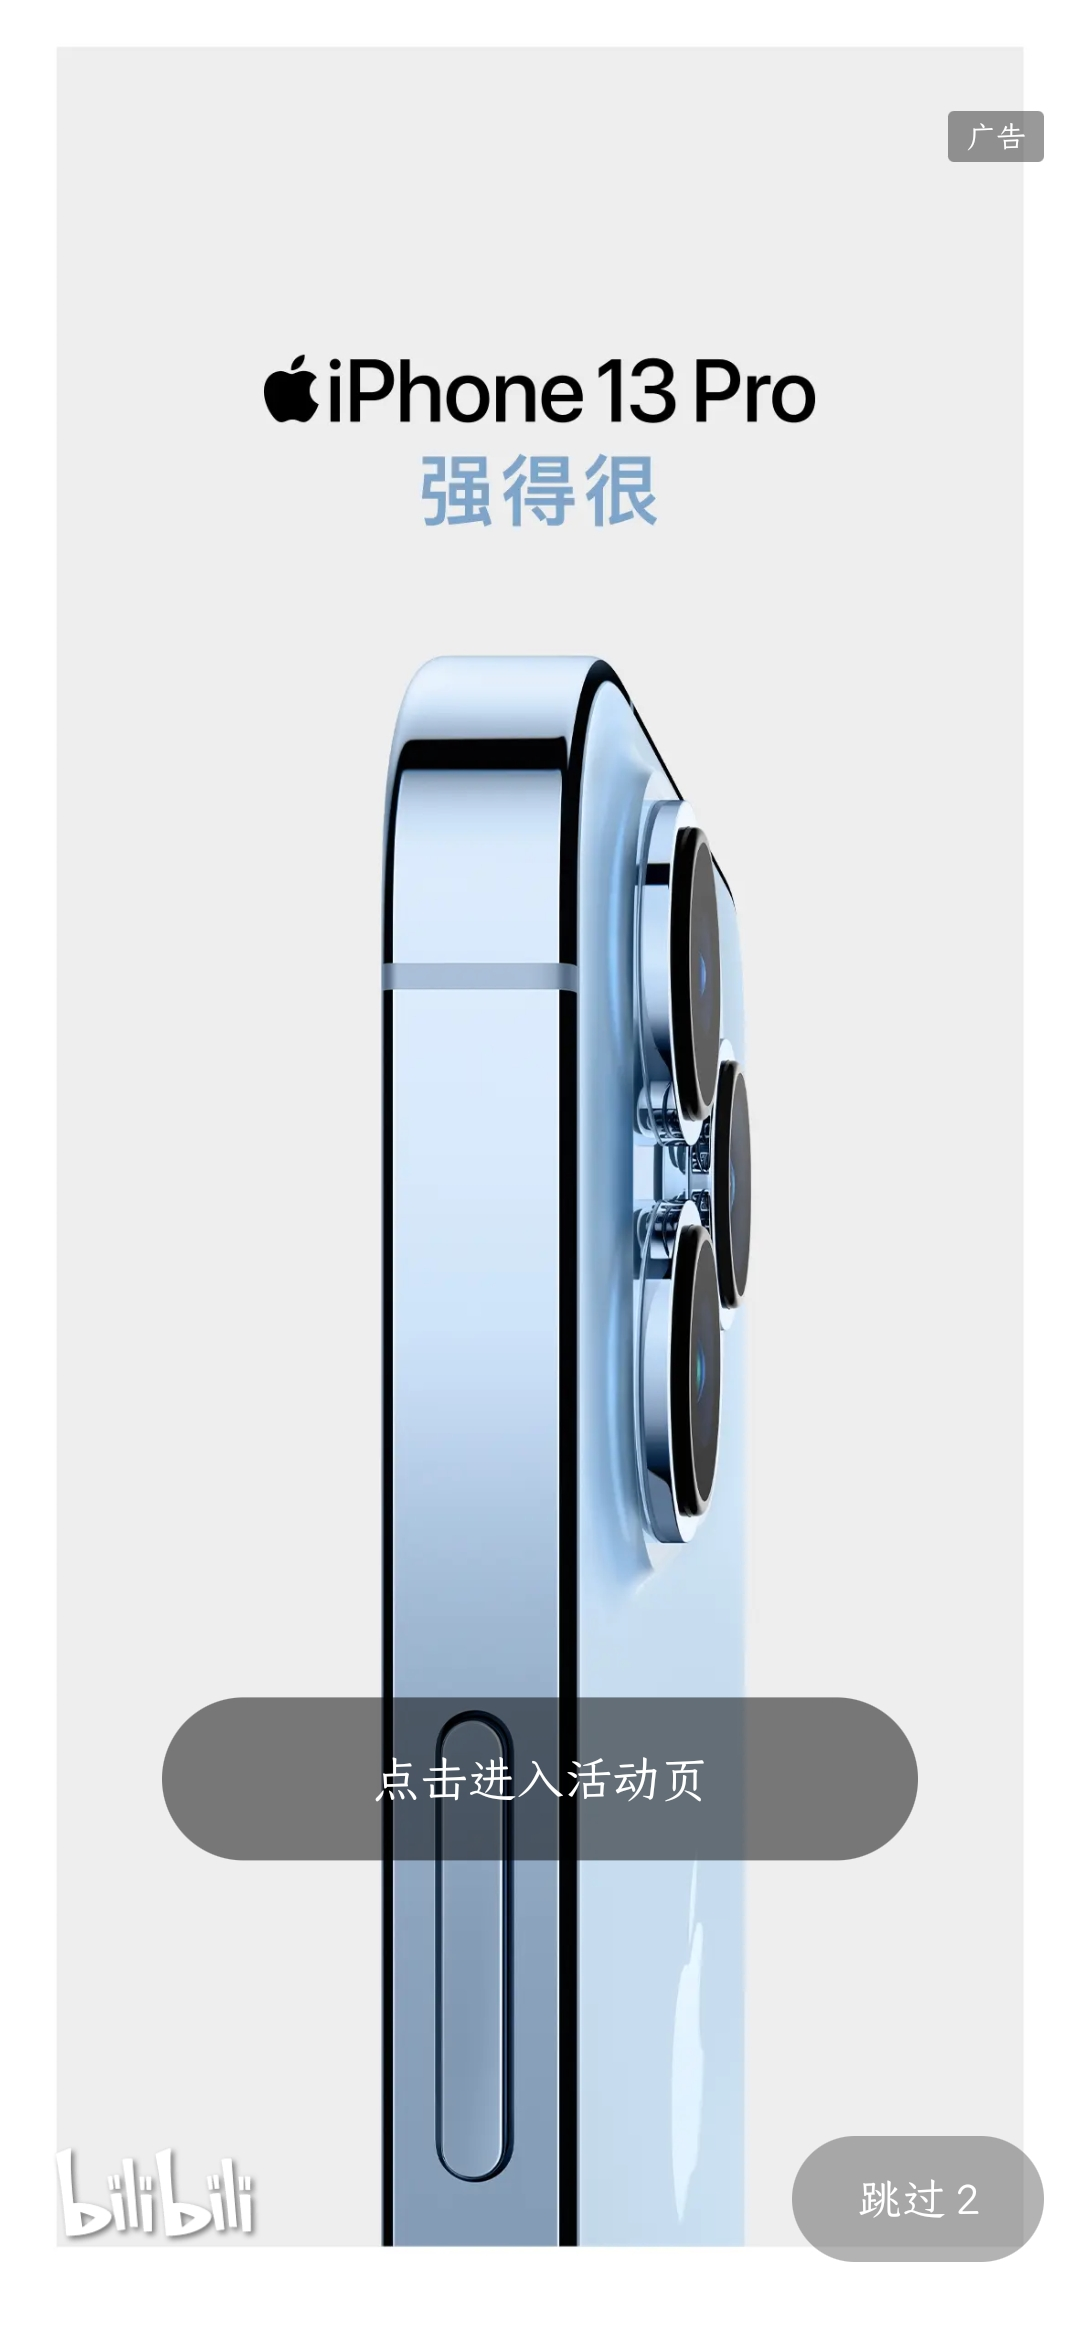skip: (828, 2147, 1028, 2252)
